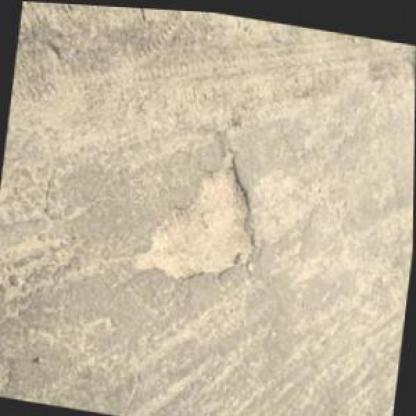pothole: (133, 132, 266, 294)
